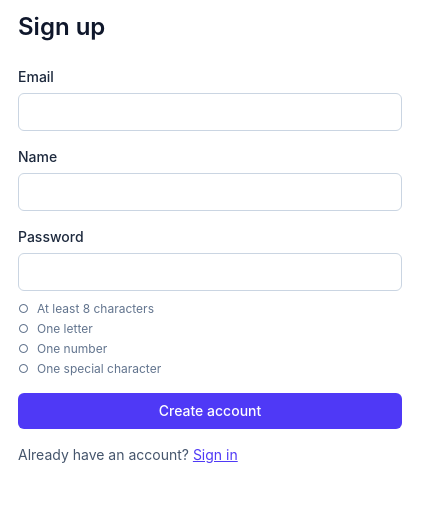
Test: SignUpPage › surfaces the specific rule when the password has no digit
Type "ada@example.com" into the field labelled "Email" at [210, 112], box [18,93,402,131]
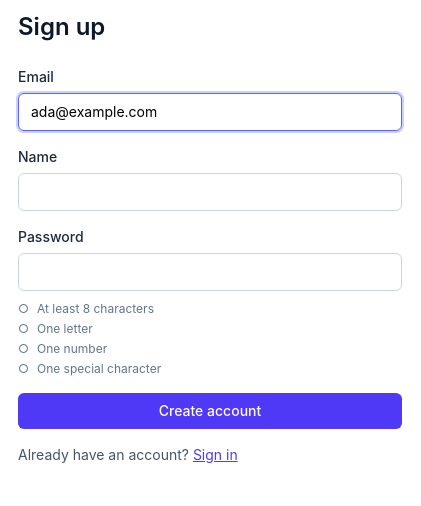
Type "Ada Lovelace" into the field labelled "Name" at [210, 192], box [18,173,402,211]
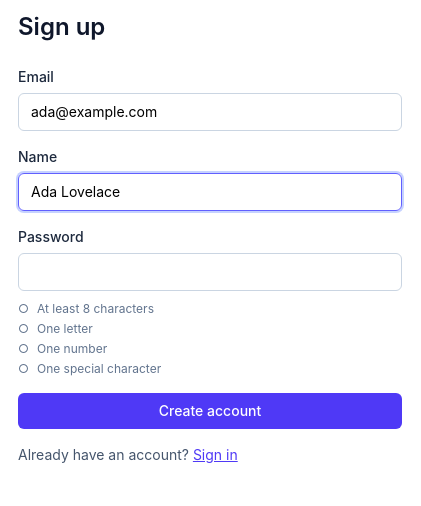
Type "superb!pass" into the password field labelled "Password" at [210, 272], box [18,253,402,291]
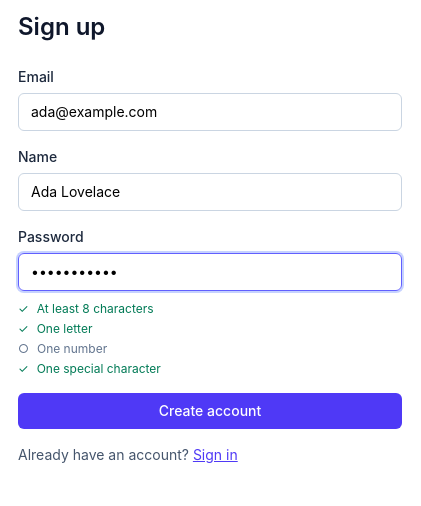
Click the button "Create account" at [210, 411], box [18,393,402,429]
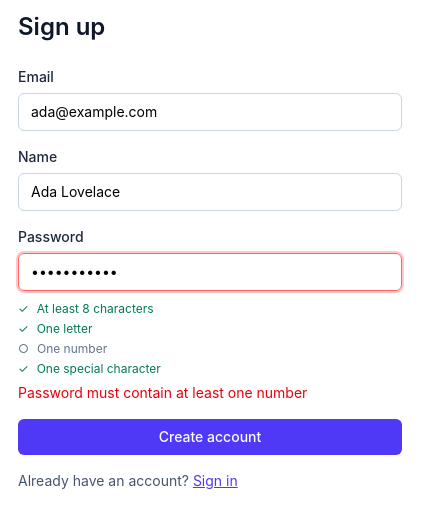
Result: the text "Password must contain at least one number" is shown at [18,384,307,401]
